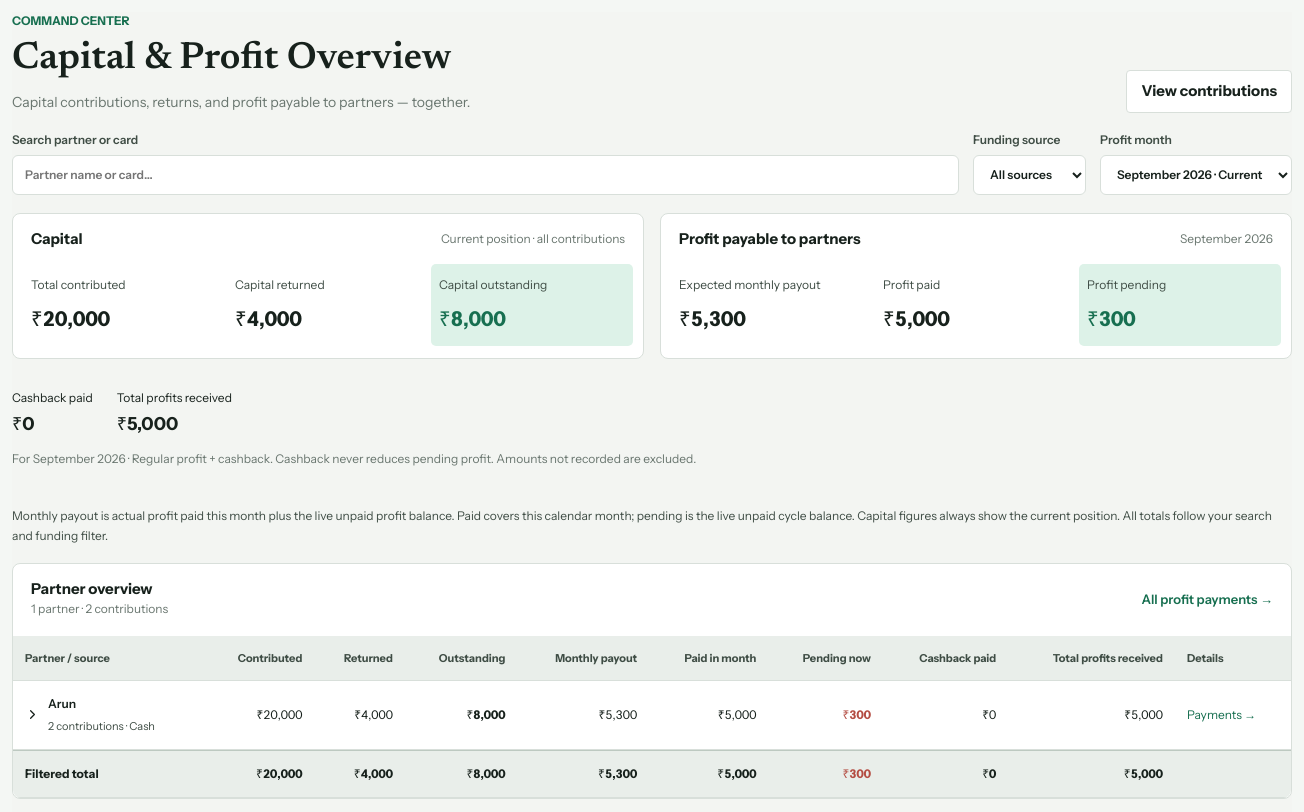
shows the selected month's actual paid rate to two decimals and keeps estimates for unpaid contributions
Click the button with aria-label "Expand Arun". click: (90, 715)
box: [25,695,155,734]
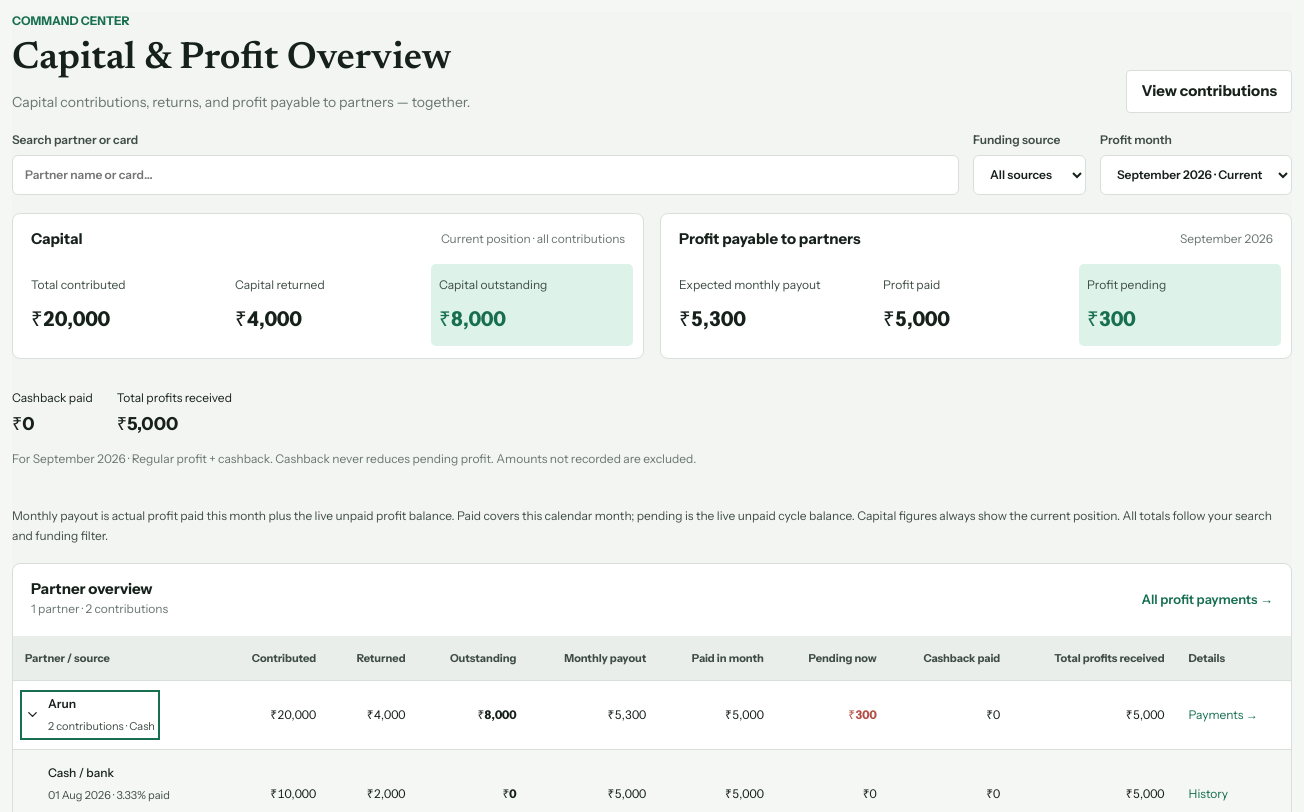
Expected: the text "01 Aug 2026 · 3.33% paid" is shown, [48,788,170,802]
Select "August 2026" in the dropdown labelled "Profit month". click: (1196, 175)
box: [1100,155,1292,195]
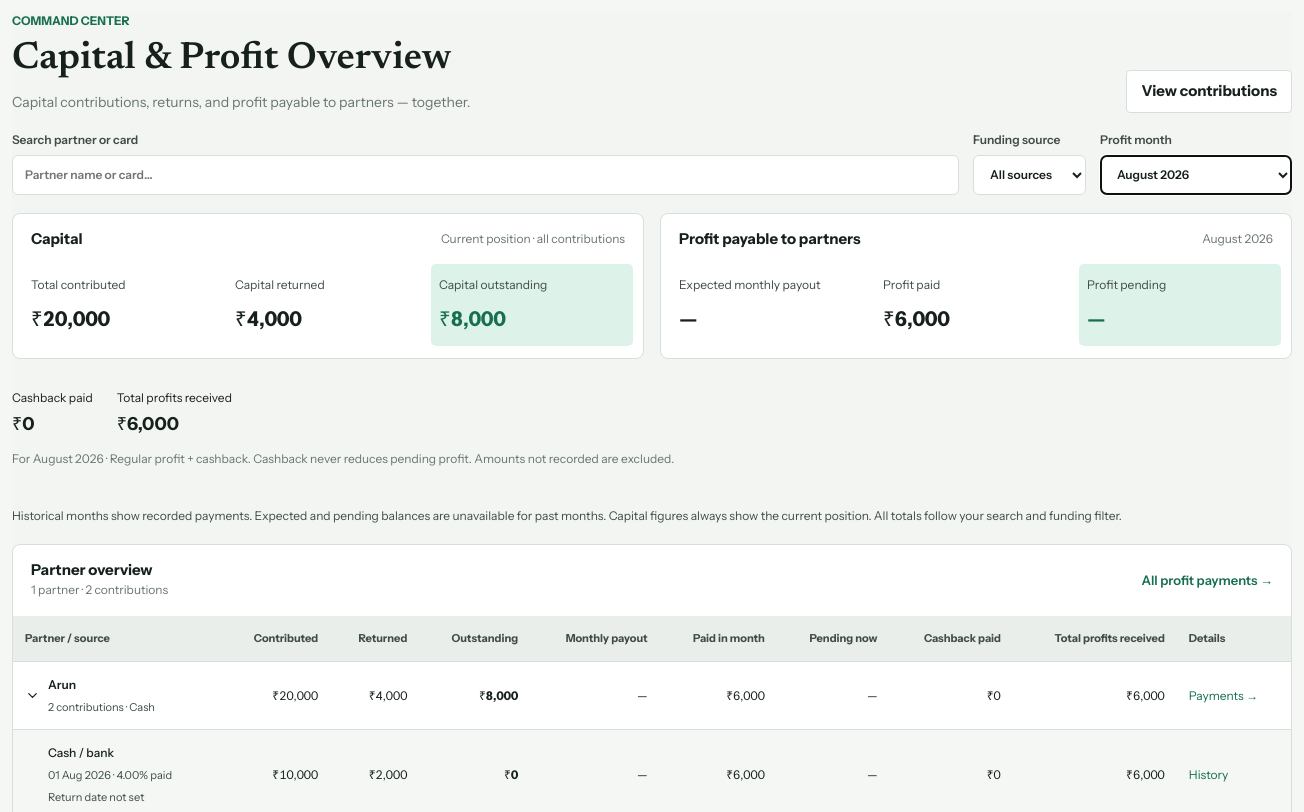
Expected: the text "01 Aug 2026 · 4.00% paid" is shown, [48,768,172,782]
Select "October 2026 · Upcoming" in the dropdown labelled "Profit month". click: (1196, 175)
box: [1100,155,1292,195]
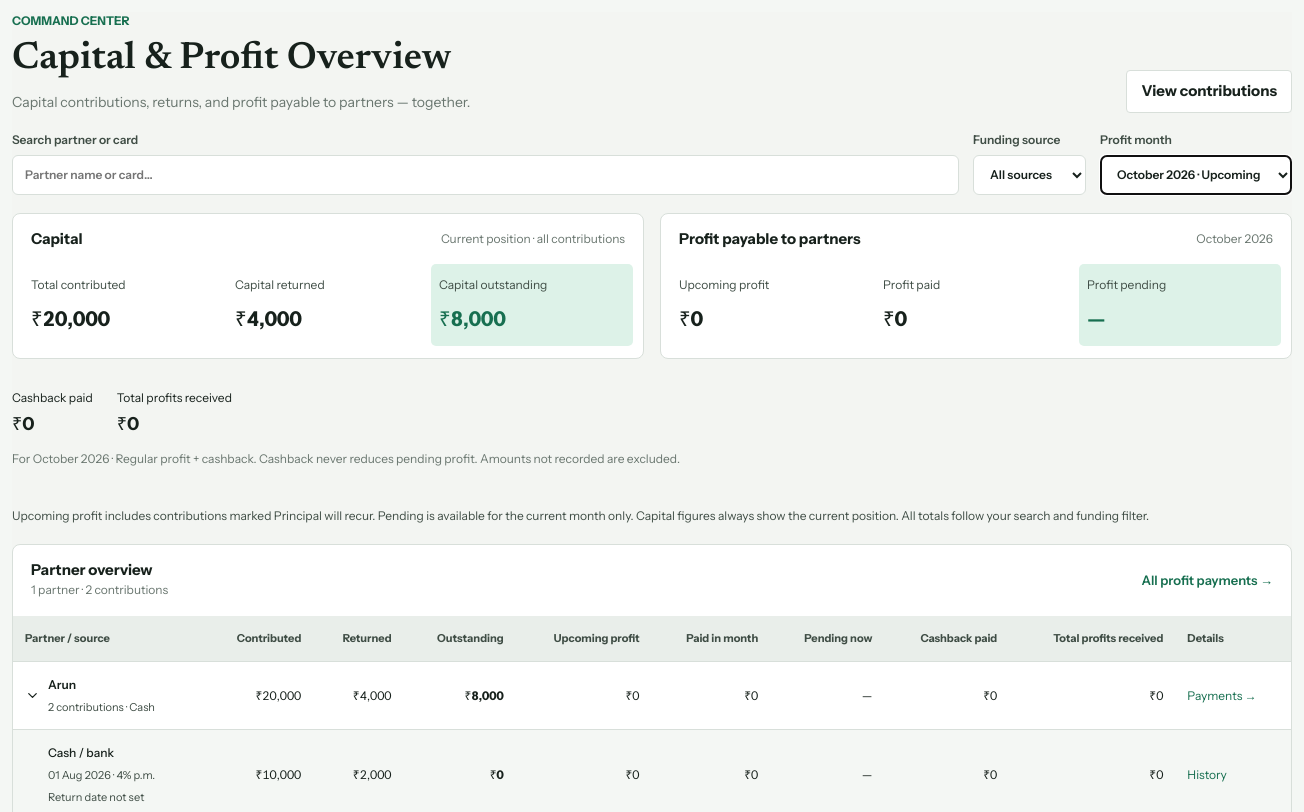
Expected: the text "01 Aug 2026 · 4% p.m." is shown 2 times
Expected: the text "% paid" is gone
